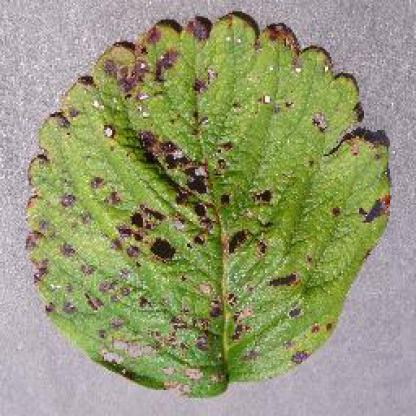leaf scorch: (21, 9, 400, 402)
